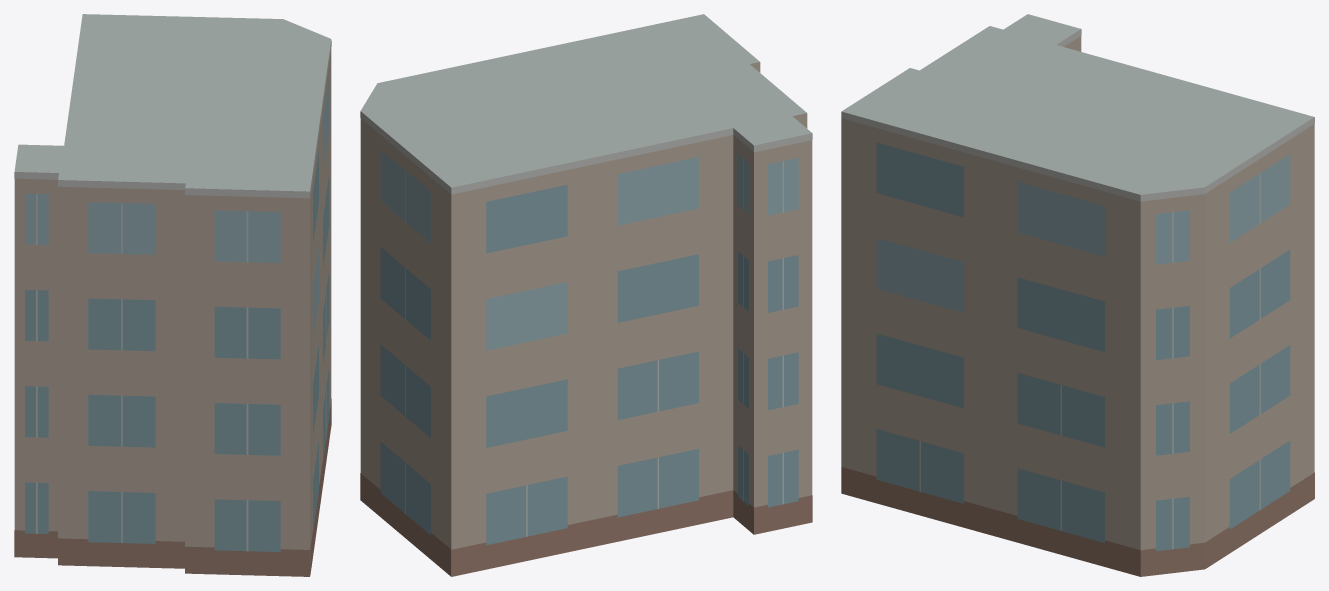
File: survey-upis-32936076.glb
The picture shows the model from 3 angles, left to right: view 1: azimuth 30°, elevation 25°; view 2: azimuth 150°, elevation 25°; view 3: azimuth 270°, elevation 25°; orthographic projection.
Parts seen in each view (by area): view 1: survey-upis-32936076.tmp; view 2: survey-upis-32936076.tmp; view 3: survey-upis-32936076.tmp.
Part boxes in pixels (box(x1,y1,x2,y2)): survey-upis-32936076.tmp: box(14, 14, 331, 576); survey-upis-32936076.tmp: box(360, 14, 812, 576); survey-upis-32936076.tmp: box(841, 14, 1314, 576).
Bounding box in the file's own units: 14.18 × 13.95 × 15.68.
